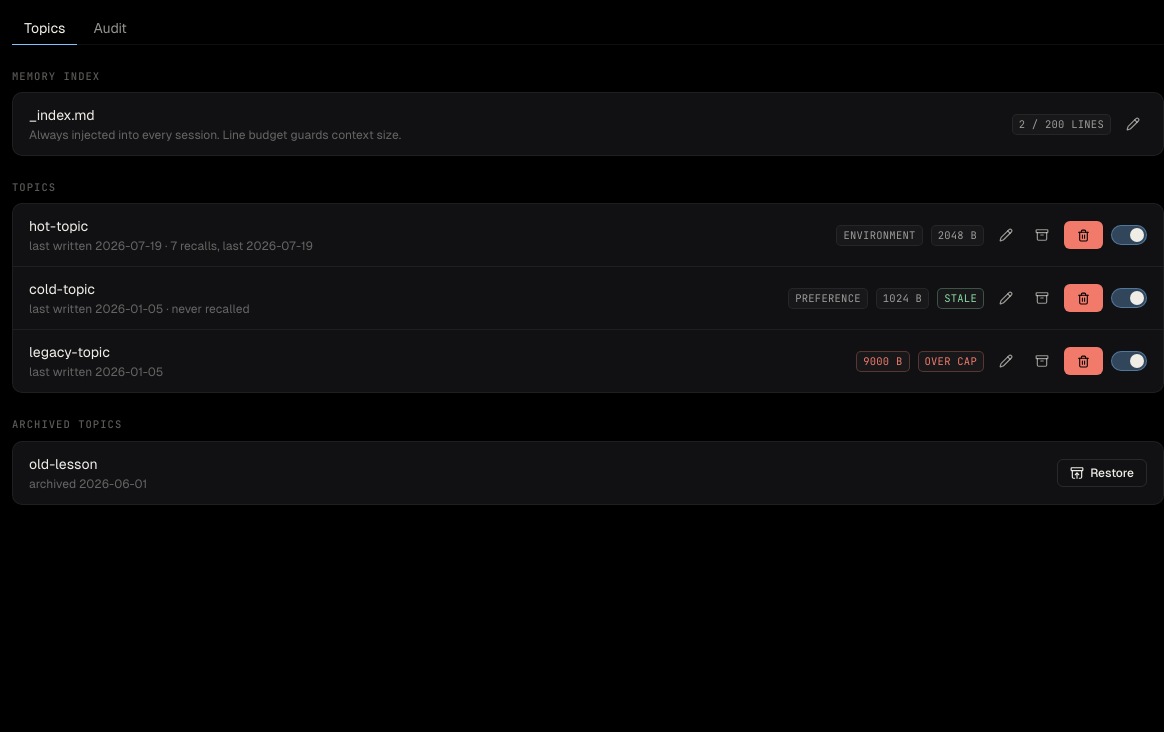
Test case: MemorySettings usage + hygiene › surfaces a restore failure (e.g. live namesake collision) as an alert
Click the button with aria-label "Restore old-lesson".
click(1102, 473)  # box top-left (1057, 459), bottom-right (1147, 487)
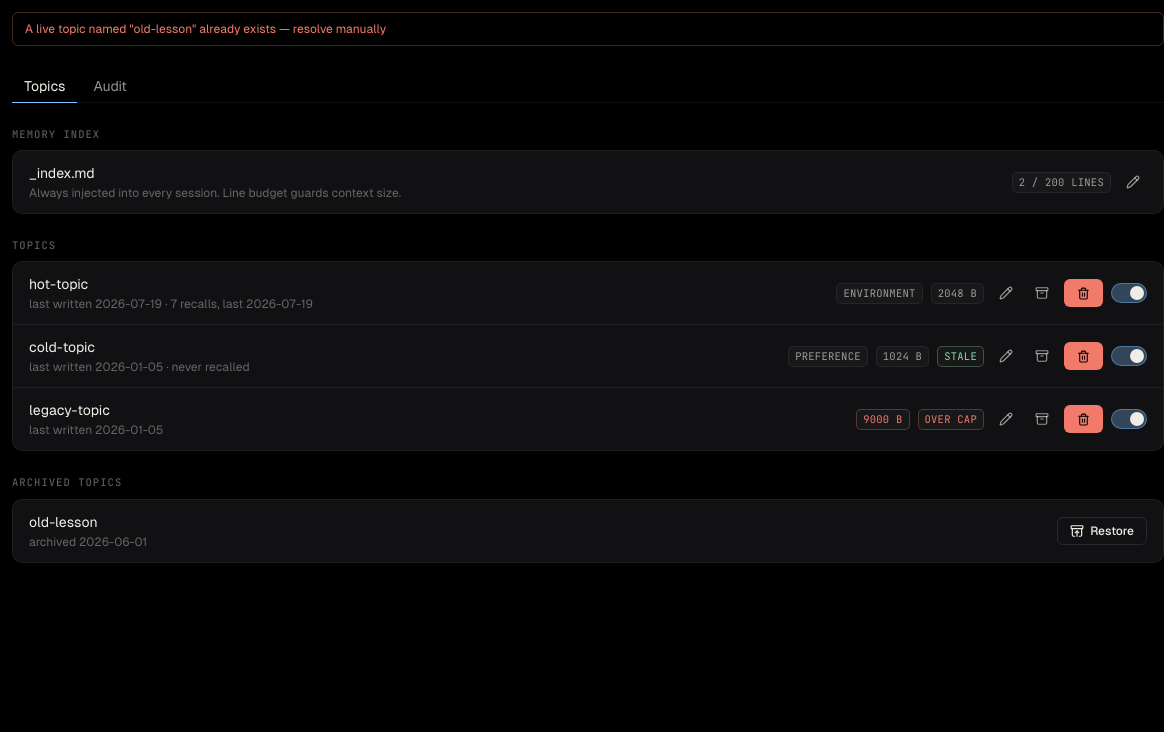
Expected: the message shows "already exists", top-left (25, 22), bottom-right (386, 36)
